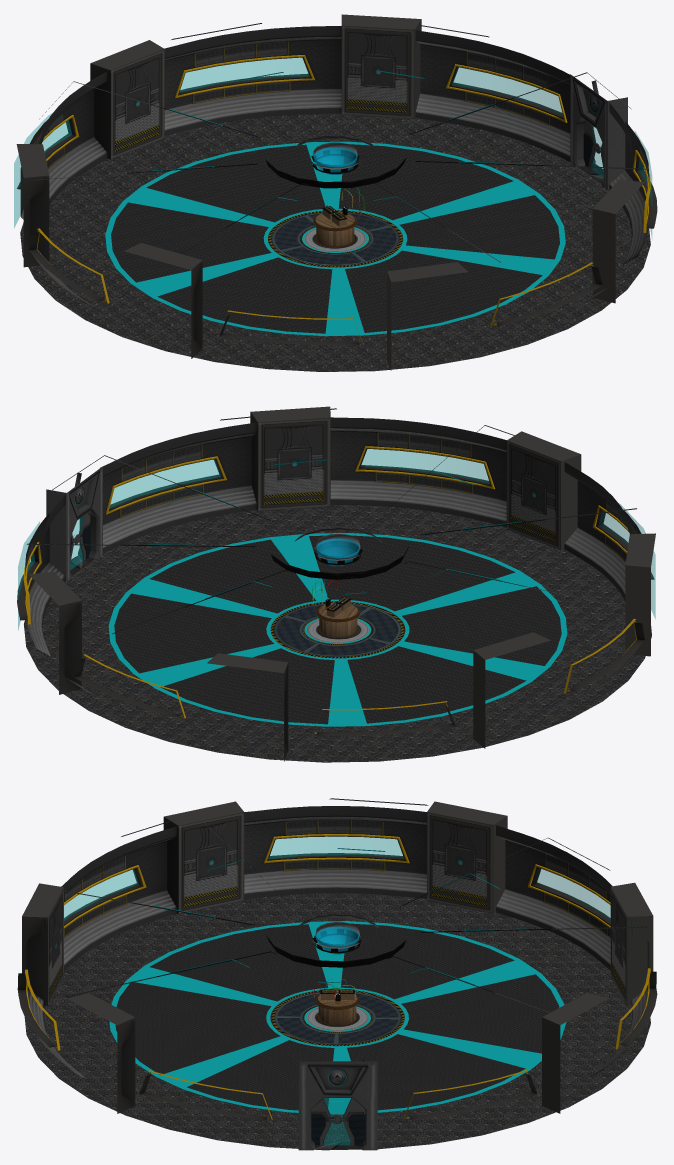
The model's file is Main_circut.gltf.
3 renders of one model, top to bottom at view 1: azimuth 30°, elevation 25°; view 2: azimuth 150°, elevation 25°; view 3: azimuth 270°, elevation 25°, orthographic.
Parts seen in each view (by area): view 1: Floor, Wall9, Wall10, wall4, wall7, Window_Glass, Wall8, Roof, Door_Wall, wall6, wall3, Wall11 (+10 smaller); view 2: Floor, Wall, Wall11, wall3, wall5, Window_Glass, Wall6, Roof, Door_Wall, wall2, wall4, Wall10 (+10 smaller); view 3: Floor, Wall7, Wall8, Wall6, wall6, wall2, Window_Glass, Door_Wall, wall7, wall5, Roof, wall3 (+11 smaller).
Part boxes in pixels (box(x1,y1,x2,y2)): Floor: box(20, 113, 650, 371); Wall9: box(164, 26, 341, 135); Wall10: box(415, 30, 570, 162); wall4: box(341, 14, 421, 118); wall7: box(90, 40, 164, 159); Window_Glass: box(14, 58, 651, 235); Wall8: box(17, 71, 107, 219); Roof: box(32, 23, 645, 262); Door_Wall: box(570, 74, 627, 189); wall6: box(16, 144, 49, 267); wall3: box(592, 179, 644, 303); Wall11: box(609, 102, 657, 264); Floor: box(24, 504, 651, 762); Wall: box(330, 417, 506, 527); Wall11: box(100, 422, 256, 553); wall3: box(250, 406, 330, 511); wall5: box(506, 431, 581, 550); Window_Glass: box(18, 449, 655, 629); Wall6: box(564, 462, 654, 600); Roof: box(27, 408, 636, 634); Door_Wall: box(46, 466, 102, 581); wall2: box(625, 533, 655, 656); wall4: box(29, 571, 81, 694); Wall10: box(17, 495, 65, 656); Floor: box(24, 893, 650, 1150); Wall7: box(244, 806, 426, 899); Wall8: box(496, 825, 612, 970); Wall6: box(61, 826, 176, 970); wall6: box(427, 801, 507, 913); wall2: box(163, 801, 244, 914); Window_Glass: box(64, 837, 610, 920); Door_Wall: box(298, 1059, 377, 1150); wall7: box(610, 882, 653, 1005); wall5: box(22, 883, 63, 1006); Roof: box(54, 798, 647, 1012); wall3: box(67, 993, 135, 1113).
Bounding box in the file's own units: 32.17 × 5.05 × 32.29.
Materials: 37 (12 with a texture image).
